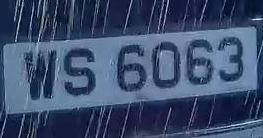0: (150, 37, 184, 94)
3: (212, 31, 249, 88)
6: (112, 37, 152, 99), (181, 35, 218, 90)
S: (57, 40, 103, 100)
W: (18, 36, 63, 111)
